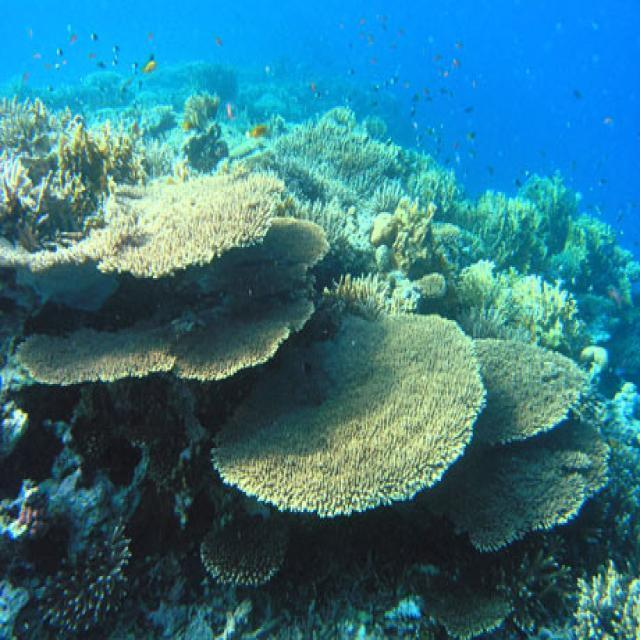Healthy: (30, 173, 324, 405), (211, 301, 488, 523), (463, 434, 615, 557), (476, 328, 590, 440), (202, 524, 291, 592)
